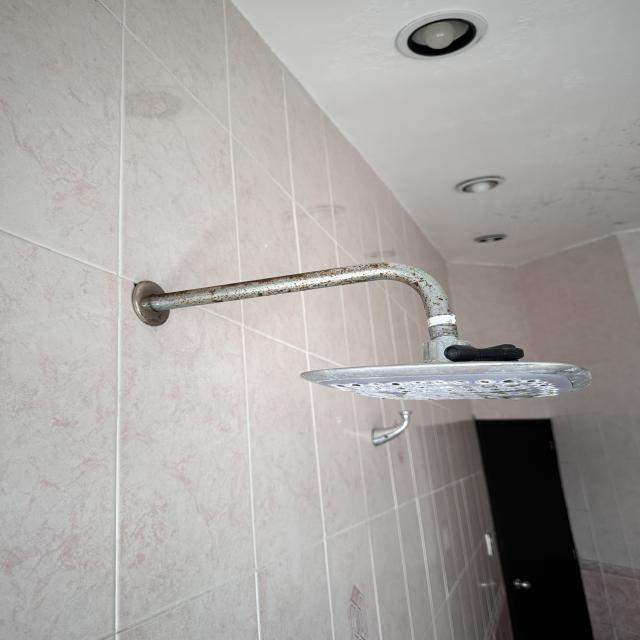hidden camera: (444, 345, 463, 362)
